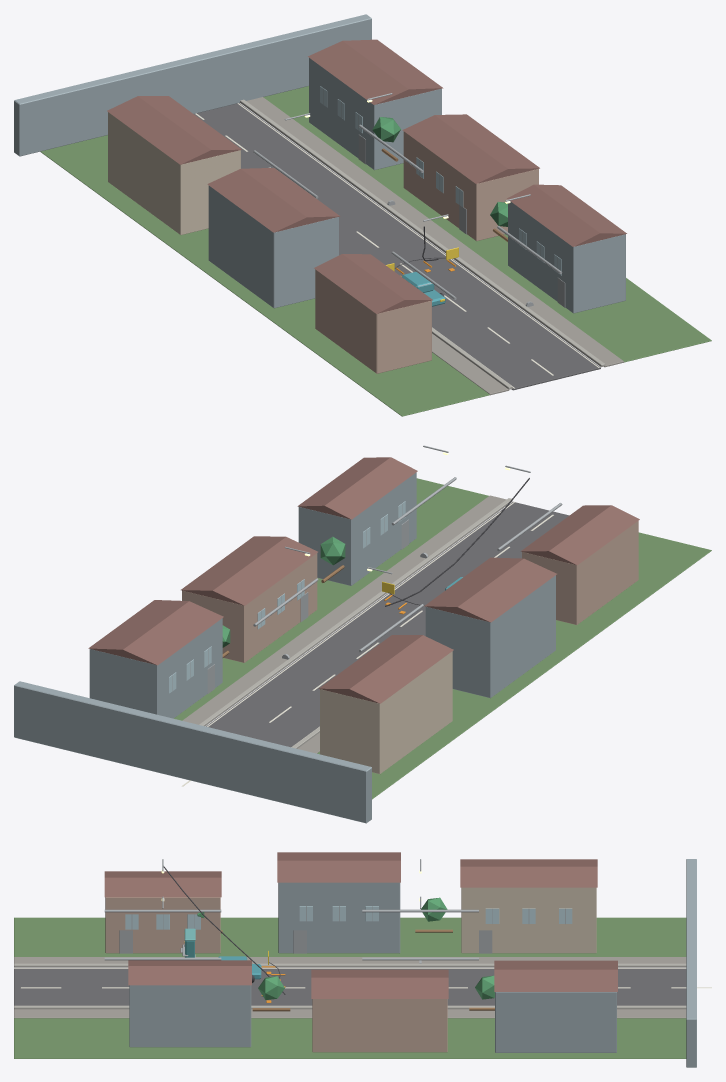
Rendered from electrical-street.meshopt.glb.
3 renders of one model, top to bottom at view 1: azimuth 30°, elevation 25°; view 2: azimuth 150°, elevation 25°; view 3: azimuth 270°, elevation 25°, orthographic. The views are drawn at different scales.
Parts seen in each view (by area): view 1: Street_buildingB, Street_verge, RoadSurface, Street_sidewalk, Street_curb, StreetlightPoles, RoadMarkings, StreetTrees; view 2: Street_buildingB, RoadSurface, Street_verge, Street_sidewalk, Street_curb, StreetlightPoles, RoadMarkings, StreetTrees; view 3: Street_buildingB, Street_verge, RoadSurface, Street_sidewalk, Street_curb, StreetlightPoles, StreetTrees, RoadMarkings, ElectricalMiniSub.
Boxes of the visible parts, x1=… form: Street_buildingB: x1=14, y1=14, x2=626, y2=373; Street_verge: x1=40, y1=86, x2=711, y2=416; RoadSurface: x1=194, y1=103, x2=600, y2=390; Street_sidewalk: x1=246, y1=97, x2=623, y2=395; Street_curb: x1=240, y1=99, x2=605, y2=389; StreetlightPoles: x1=253, y1=93, x2=562, y2=306; RoadMarkings: x1=195, y1=103, x2=599, y2=388; StreetTrees: x1=372, y1=117, x2=507, y2=241; Street_buildingB: x1=14, y1=457, x2=639, y2=823; RoadSurface: x1=206, y1=501, x2=569, y2=747; Street_verge: x1=174, y1=478, x2=711, y2=799; Street_sidewalk: x1=182, y1=495, x2=506, y2=753; Street_curb: x1=199, y1=498, x2=512, y2=748; StreetlightPoles: x1=253, y1=445, x2=562, y2=659; RoadMarkings: x1=181, y1=501, x2=553, y2=786; StreetTrees: x1=222, y1=536, x2=345, y2=657; Street_buildingB: x1=104, y1=852, x2=696, y2=1067; Street_verge: x1=14, y1=917, x2=686, y2=1058; RoadSurface: x1=14, y1=968, x2=686, y2=1005; Street_sidewalk: x1=14, y1=957, x2=686, y2=1018; Street_curb: x1=14, y1=963, x2=686, y2=1009; StreetlightPoles: x1=104, y1=859, x2=478, y2=963; StreetTrees: x1=197, y1=897, x2=494, y2=1011; RoadMarkings: x1=14, y1=968, x2=711, y2=988; ElectricalMiniSub: x1=180, y1=928, x2=195, y2=957.
Size of the model in its own units: 28 by 8.7 by 51.5.
